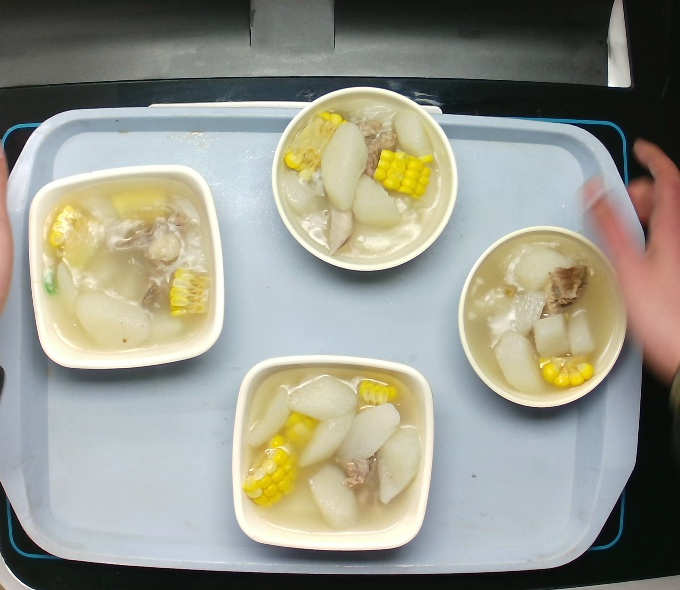wcq-ShanYaoYuMiTang: (37, 170, 213, 353), (238, 364, 426, 534), (276, 91, 451, 266), (463, 230, 620, 398)
